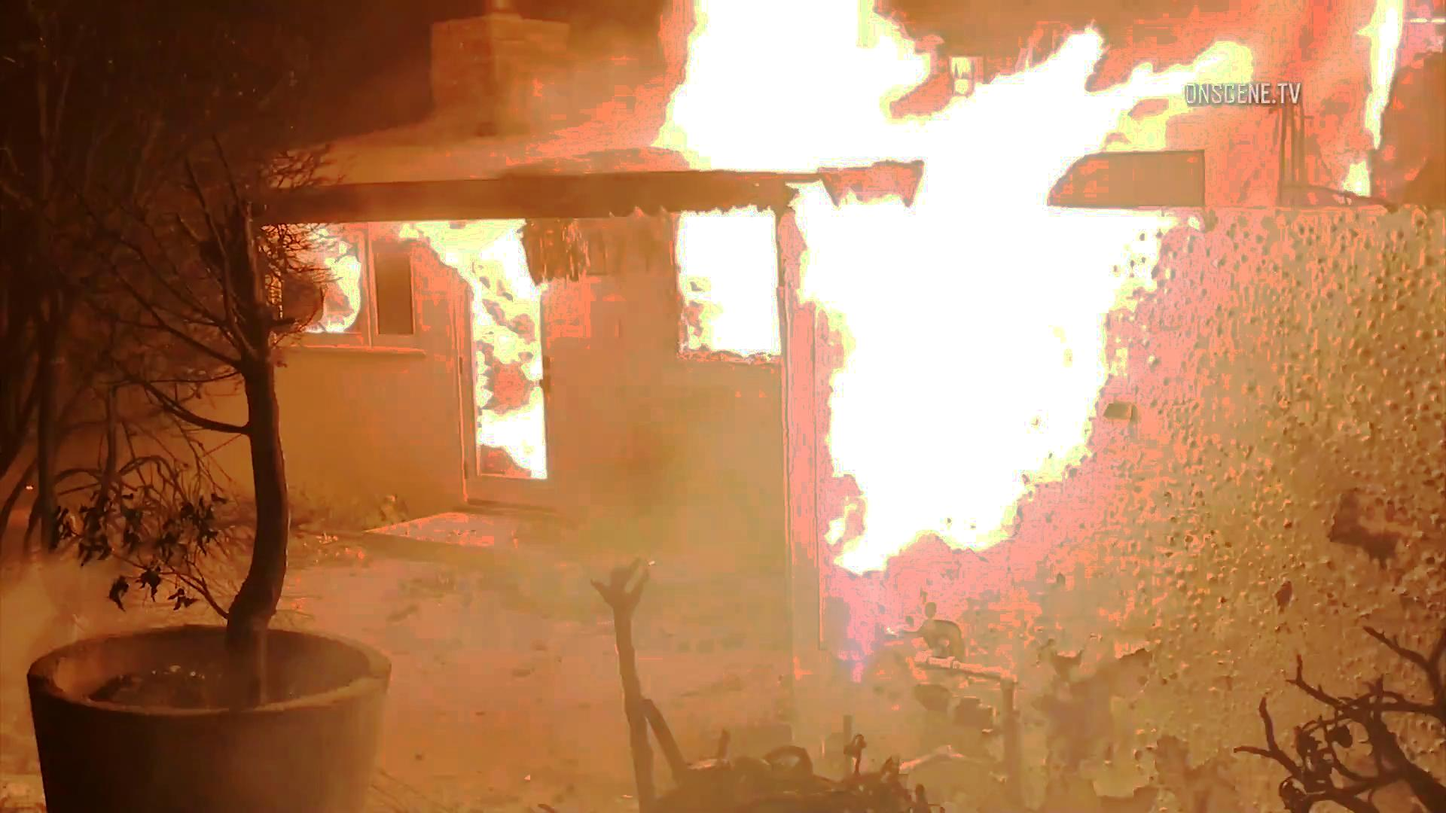fire: (840, 107, 1174, 550), (468, 231, 545, 467), (308, 226, 366, 341)
